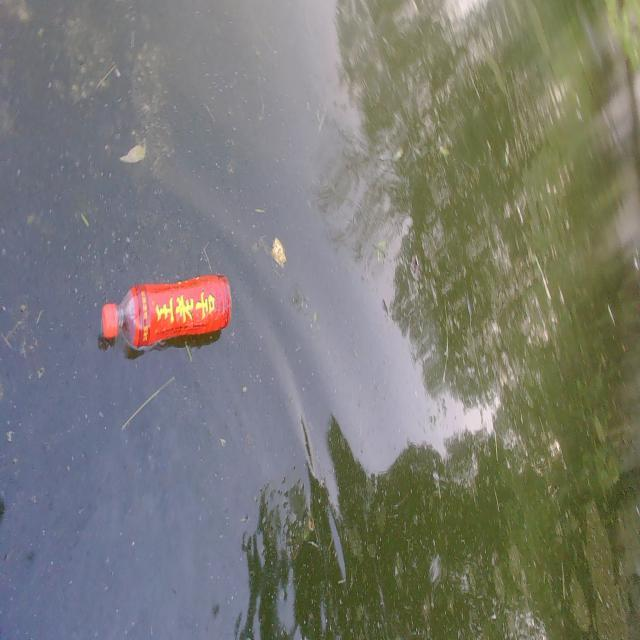bottle: (84, 252, 250, 374)
